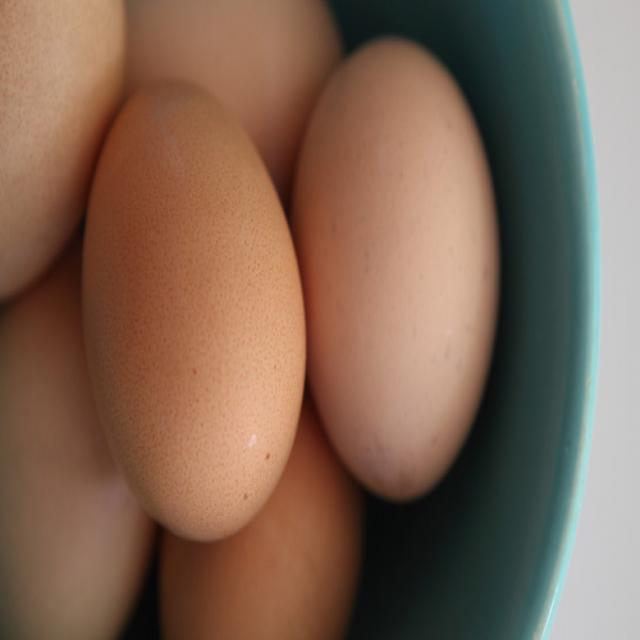eggs: (84, 77, 306, 532), (294, 37, 498, 497), (0, 246, 153, 640), (162, 415, 361, 640), (1, 0, 127, 305), (131, 0, 338, 184)
